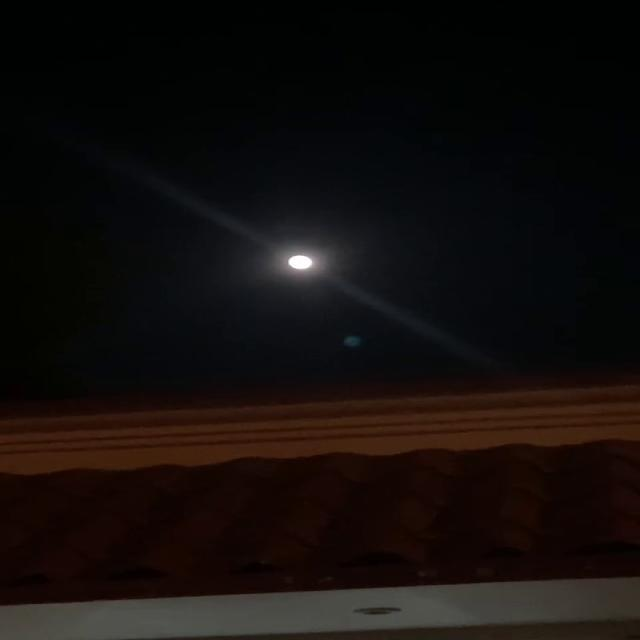moon: (290, 255, 322, 272)
